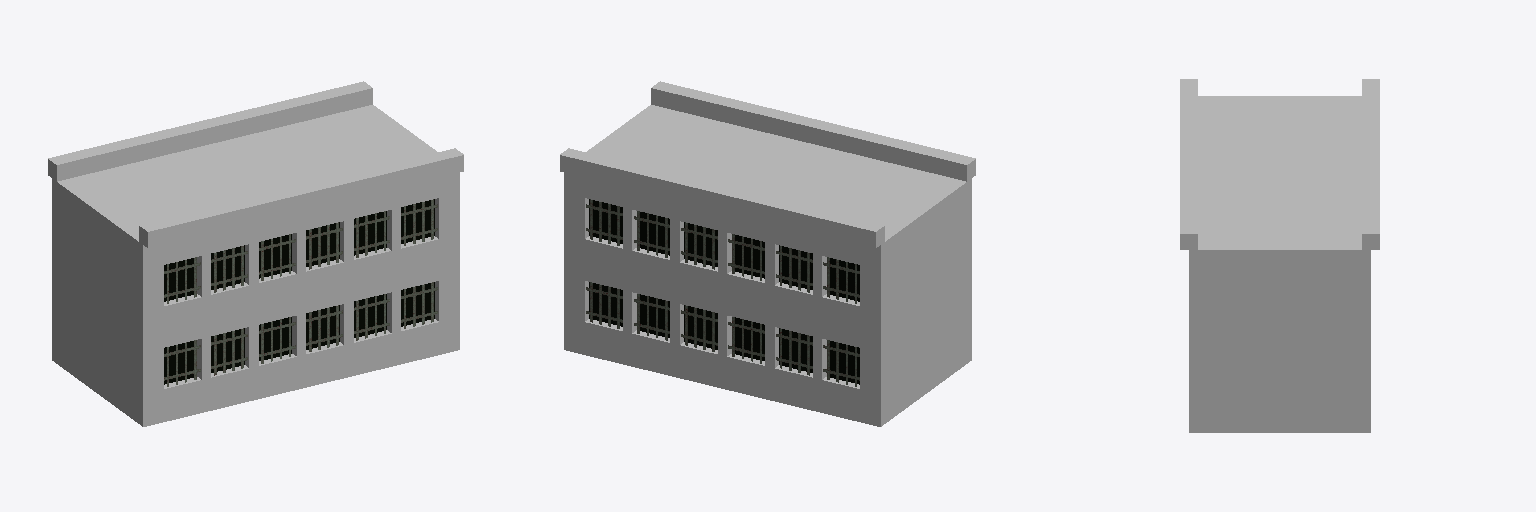
The picture shows the model from 3 angles: view 1: azimuth 30°, elevation 25°; view 2: azimuth 150°, elevation 25°; view 3: azimuth 270°, elevation 25°; orthographic projection.
Visible parts, largest first — view 1: walkway; view 2: walkway; view 3: walkway.
Part boxes in pixels (x1,y1,x2,y2): walkway: (48,81,463,426); walkway: (560,81,975,426); walkway: (1180,79,1379,432).
Bounding box in the file's own units: 20 × 12 × 11.
Materials: 3 (1 with a texture image).